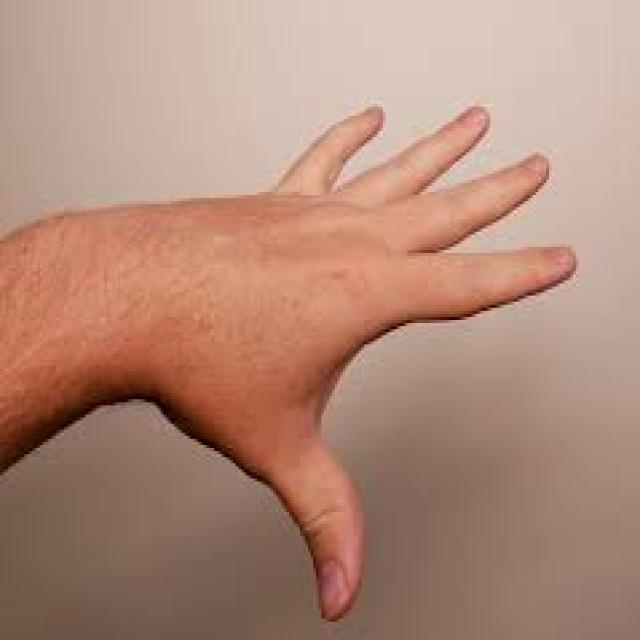hand: (40, 71, 590, 624)
